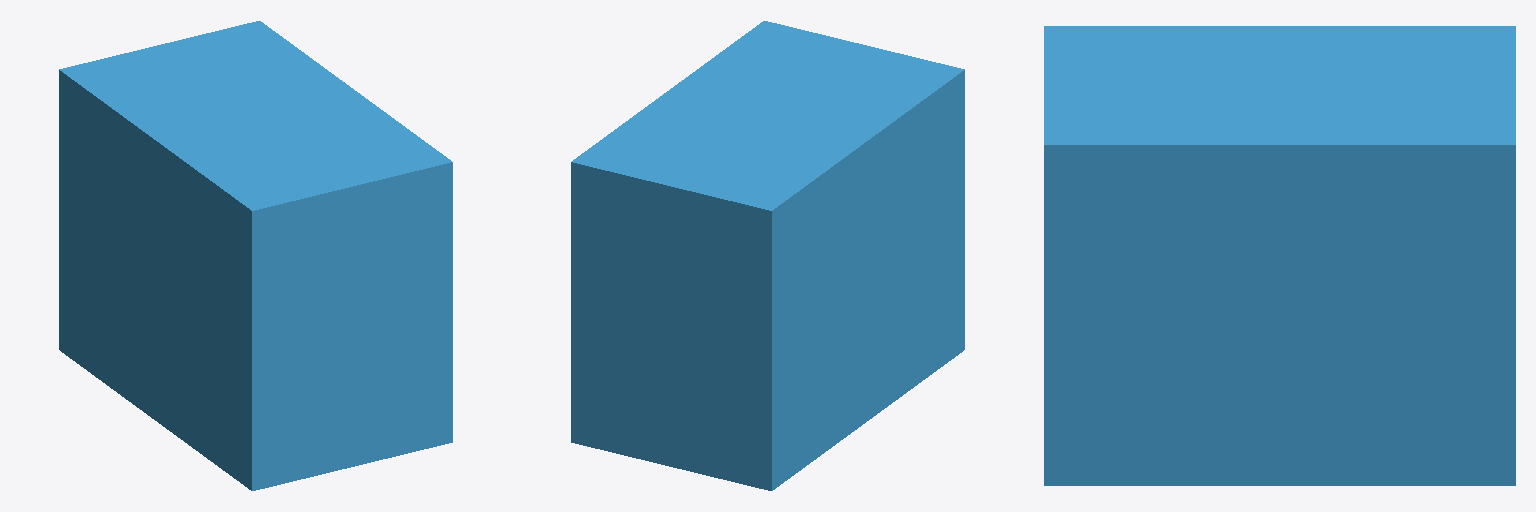
robot.urdf — table_box:
<?xml version="1.0"?>
<robot name="table_box">
  <link name="world" />

  <gazebo reference="table">
    <mu1>0.1</mu1>
    <mu2>0.1</mu2>
    <kp>10000000</kp>
    <kd>1</kd>
    <minDepth>0.001</minDepth>
  </gazebo>

  <link name="table">
    <visual>
      <geometry>
	<box size="0.3 0.5 0.4" />
      </geometry>
    </visual>
    <collision>
      <geometry>
	<box size="0.3 0.5 0.4" />
      </geometry>
    </collision>
    <inertial>
      <mass value="100" />
      <inertia ixx="100" ixy="0" ixz="0" iyy="100" iyz="0" izz="100" />
    </inertial>
  </link>

  <joint name="fixed" type="fixed">
    <origin rpy="0 0 0" xyz="0.8 0 0.225" />
    <parent link="world" />
    <child link="table" />
  </joint>


  <gazebo reference="table">
  <material>Gazebo/Wood</material>
  </gazebo>

</robot>

--- Render facts (derived) ---
3 views of the same robot in one strip: view 1: azimuth 30°, elevation 25°; view 2: azimuth 150°, elevation 25°; view 3: azimuth 270°, elevation 25° (orthographic).
Model table_box with 2 links and 1 joints (1 fixed), rooted at world, posed all joints at 0.
Visible links, largest first — view 1: table; view 2: table; view 3: table.
Boxes of the visible links, x1,y1,x2,y2 form: table: [59, 21, 452, 490]; table: [571, 21, 964, 490]; table: [1044, 26, 1515, 485].
Size in the robot's own frame: 0.3 by 0.5 by 0.4 metres.
Geometry: primitives only (box / cylinder / sphere), no mesh files.